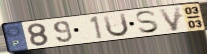1: (89, 15, 105, 40)
8: (27, 23, 51, 47)
9: (52, 20, 74, 44)
S: (135, 10, 162, 35)
U: (101, 12, 131, 38)
V: (156, 5, 183, 33)
